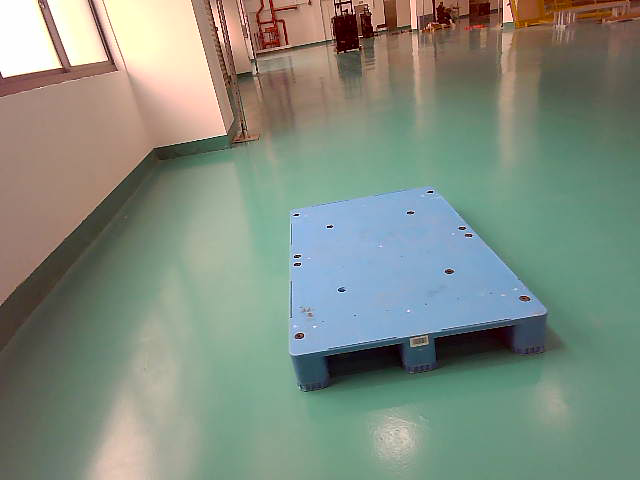block: (290, 349, 331, 390), (403, 334, 438, 375), (513, 315, 548, 354)
front: (293, 312, 548, 394)
hole pallet: (433, 324, 515, 366), (325, 343, 405, 381)
